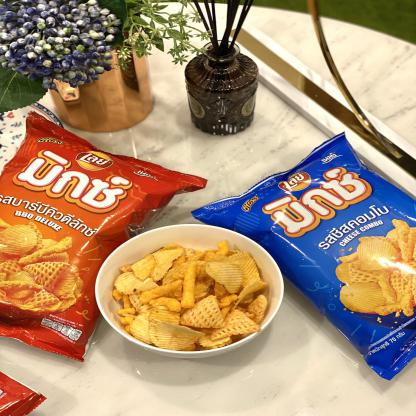potatochip: (184, 127, 416, 387), (0, 104, 214, 369)
